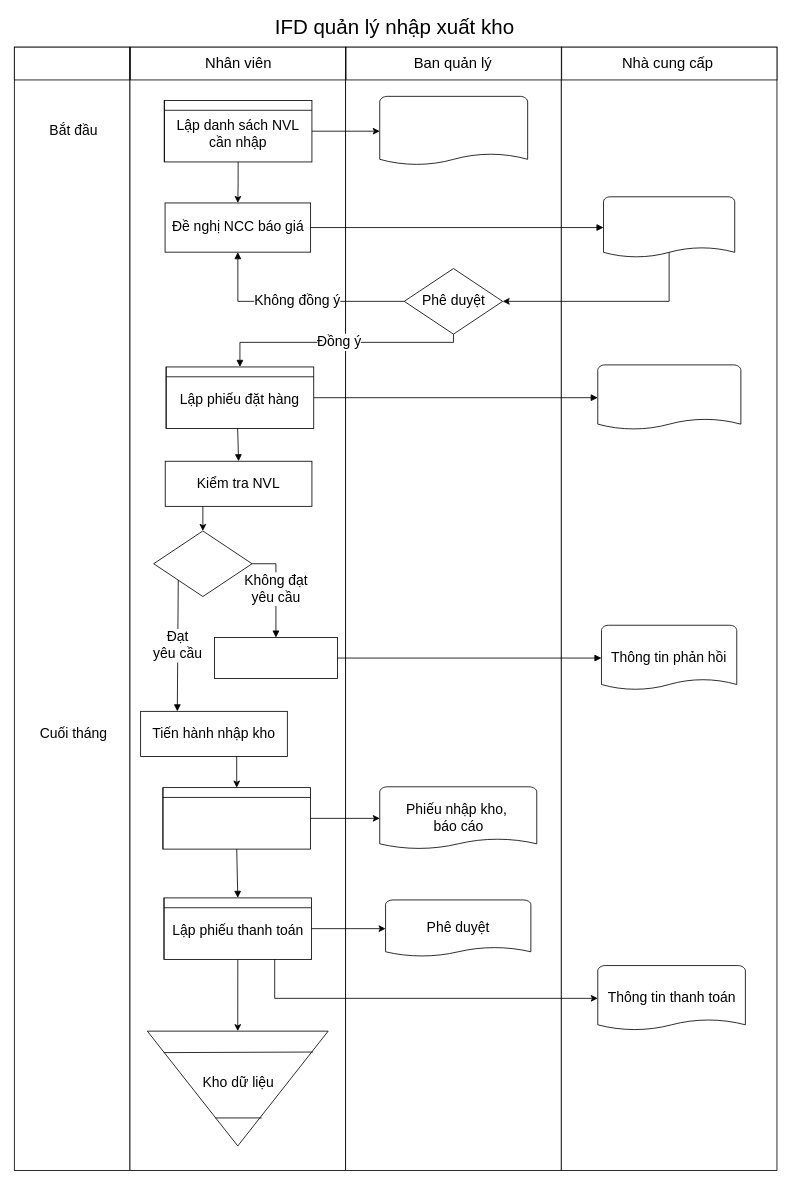
This 791x1185 diagram has some shape labels left out. The shapes that lost their labels are listed below. From the top down, each one's centre as x and y in pixels, then its label:
At [72,63]: "Thời gian".
At [453,131]: "Danh sách NVL cần nhập".
At [669,227]: "Bảng báo giá".
At [669,397]: "Phiếu đặt hàng".
At [202,563]: "Kết quả".
At [275,658]: "Tạo thông báo".
At [236,818]: "Lập phiếu nhập kho".
